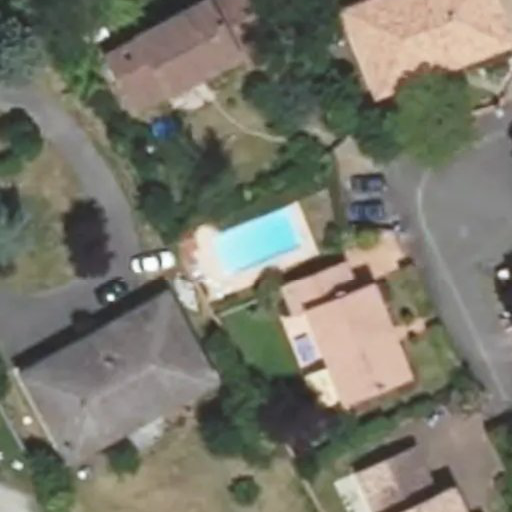pool: (216, 239, 295, 244)
